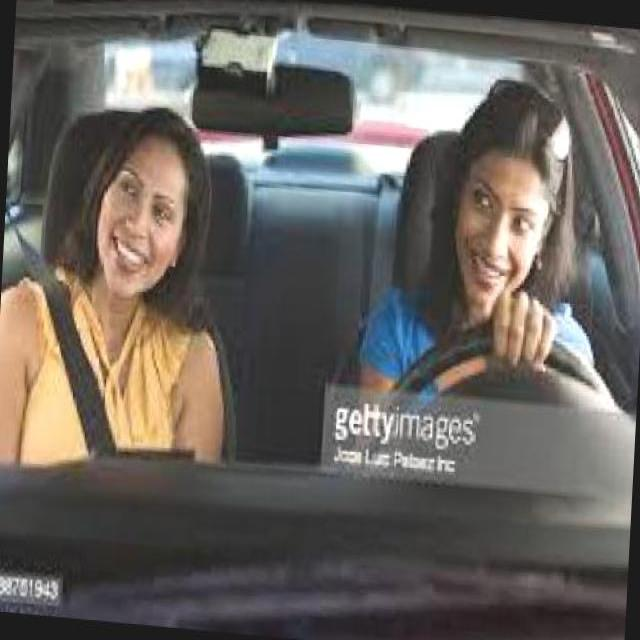no-seatbelt: (360, 200, 640, 493)
seatbelt: (0, 162, 239, 491)
